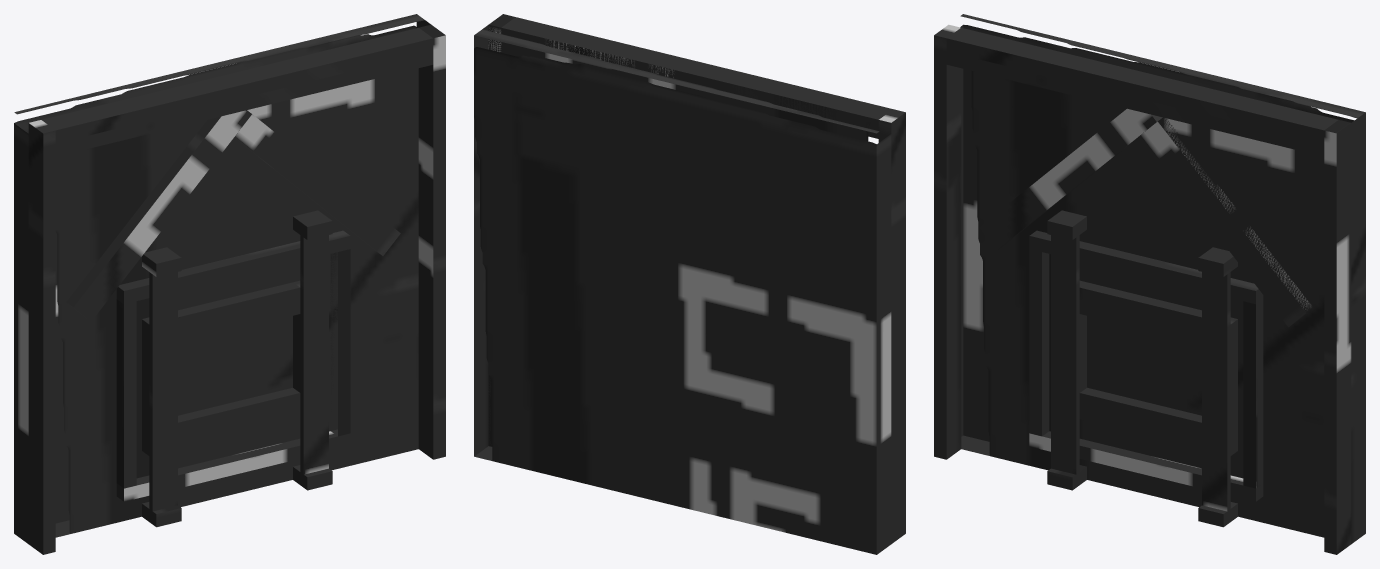
File: c70_left_board.obj
3 renders of one model, left to right at view 1: azimuth 30°, elevation 25°; view 2: azimuth 150°, elevation 25°; view 3: azimuth 330°, elevation 25°, orthographic.
Visible parts, largest first — view 1: cube; view 2: cube; view 3: cube.
Boxes of the visible parts, x1,y1,x2,y2 form: cube: (14, 14, 445, 554); cube: (474, 14, 905, 554); cube: (934, 14, 1365, 554).
Size of the model in its own units: 2 by 2 by 0.25.
